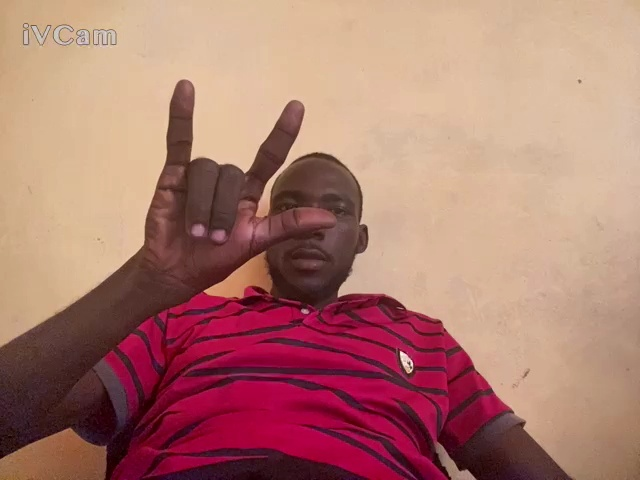Jetaime: (140, 80, 338, 308)
